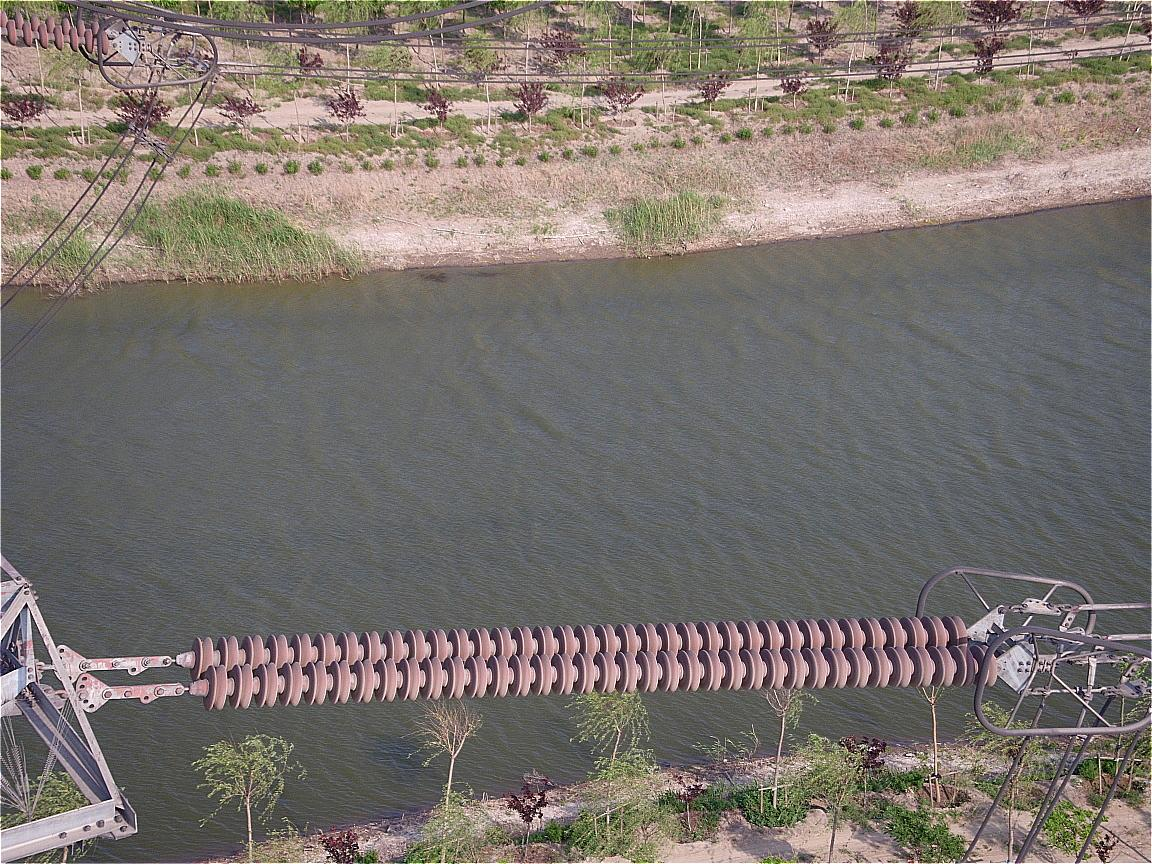insultor2: (190, 613, 975, 712)
